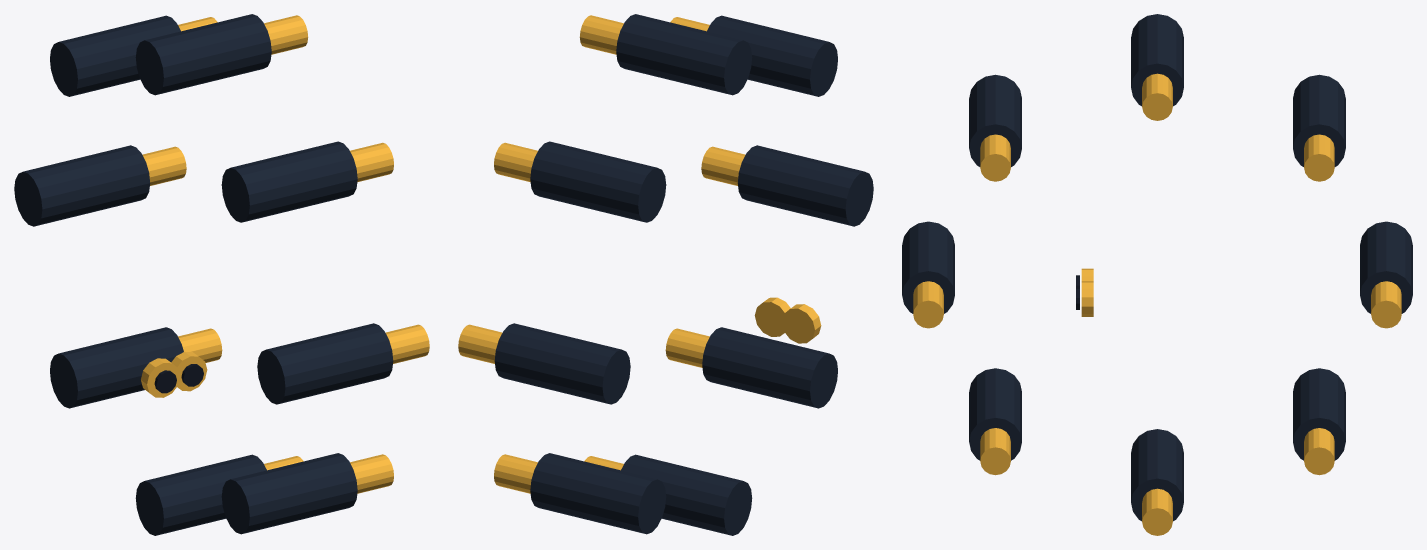
Rendered from 59_L85_CompliantContactDampingActuator.fbx.
3 views of the same model, side by side, from view 1: azimuth 30°, elevation 25°; view 2: azimuth 150°, elevation 25°; view 3: azimuth 270°, elevation 25° (orthographic). The views are drawn at different scales.
Parts seen in each view (by area): view 1: L85_CompliantContactDampingActuator_Part_0000, L85_CompliantContactDampingActuator_Part_0001, L85_CompliantContactDampingActuator_Part_0002, L85_CompliantContactDampingActuator_Part_0004; view 2: L85_CompliantContactDampingActuator_Part_0000, L85_CompliantContactDampingActuator_Part_0001, L85_CompliantContactDampingActuator_Part_0002, L85_CompliantContactDampingActuator_Part_0004; view 3: L85_CompliantContactDampingActuator_Part_0000, L85_CompliantContactDampingActuator_Part_0001.
Boxes of the visible parts, x1=… form: L85_CompliantContactDampingActuator_Part_0000: x1=14, y1=14, x2=393, y2=535; L85_CompliantContactDampingActuator_Part_0001: x1=142, y1=15, x2=429, y2=493; L85_CompliantContactDampingActuator_Part_0002: x1=141, y1=358, x2=180, y2=397; L85_CompliantContactDampingActuator_Part_0004: x1=171, y1=351, x2=207, y2=391; L85_CompliantContactDampingActuator_Part_0000: x1=494, y1=14, x2=873, y2=535; L85_CompliantContactDampingActuator_Part_0001: x1=458, y1=15, x2=745, y2=493; L85_CompliantContactDampingActuator_Part_0002: x1=782, y1=304, x2=821, y2=343; L85_CompliantContactDampingActuator_Part_0004: x1=754, y1=297, x2=790, y2=336; L85_CompliantContactDampingActuator_Part_0000: x1=902, y1=14, x2=1412, y2=521; L85_CompliantContactDampingActuator_Part_0001: x1=913, y1=73, x2=1401, y2=535.
Size of the model in its own units: 75.25 by 183 by 183.
